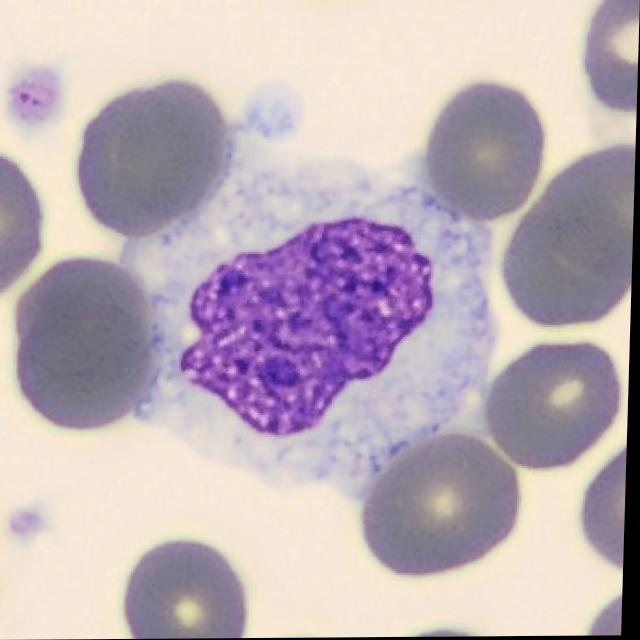Linfocito atipico: (124, 119, 492, 481)
